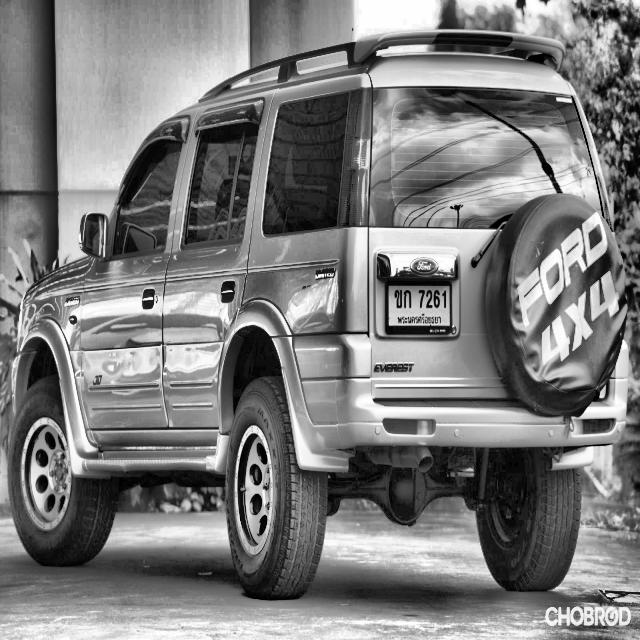license-plate: (384, 280, 456, 335)
